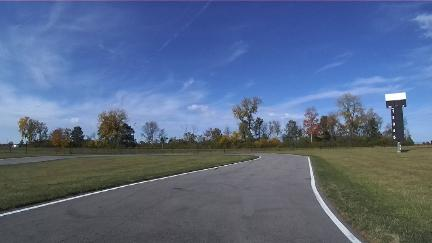Grass: (0, 155, 257, 210), (286, 148, 431, 242)
Lane: (0, 154, 349, 242)
